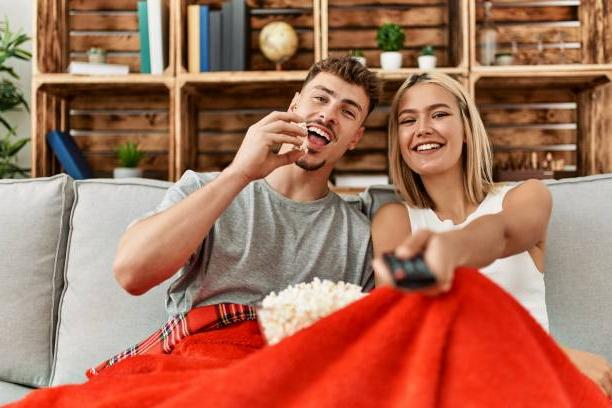blanket: (0, 266, 612, 408)
short sleeve shirt: (125, 168, 377, 322)
vest: (402, 177, 551, 336)
